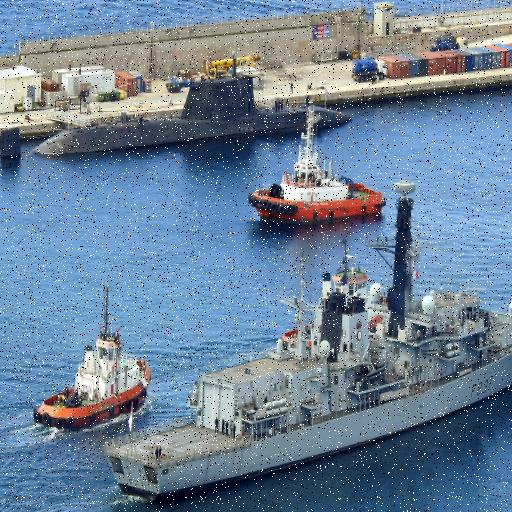Fragata: (99, 173, 512, 512)
